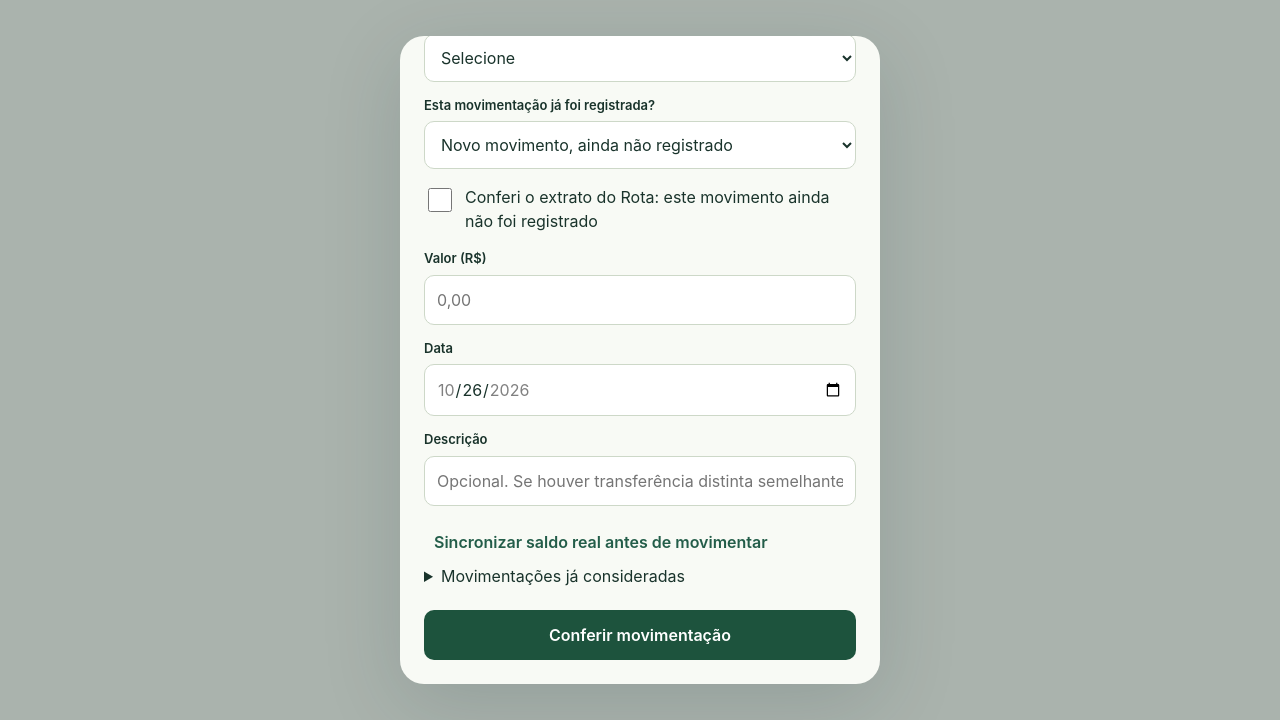
Scenario: zero position explains the withdrawal limit and offers bank synchronization
The width and height of the screenshot is (1280, 720).
(page scrolled)
Click the button "Sincronizar saldo real antes de movimentar" at x=601, y=542, box [424, 520, 778, 564]
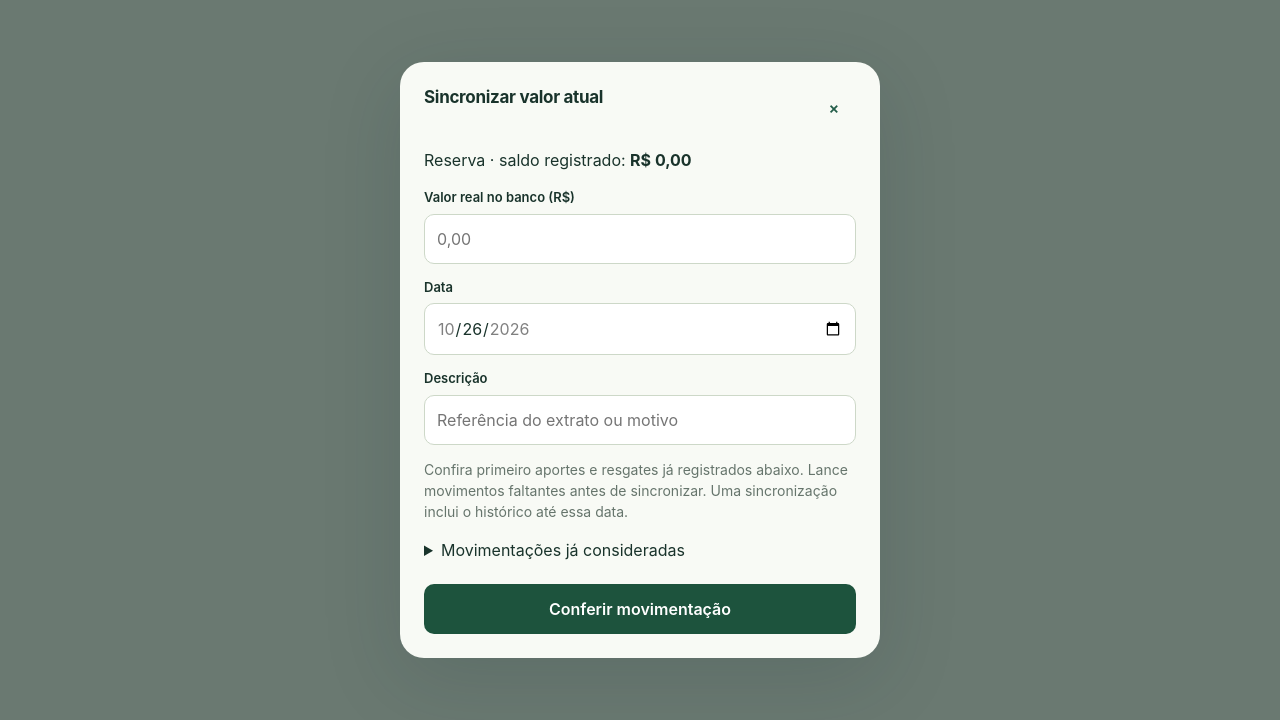
Expected: the field labelled "Conta de destino" is not shown
Now the dialog "Sincronizar valor atual" is shown, box [400, 62, 880, 658]
